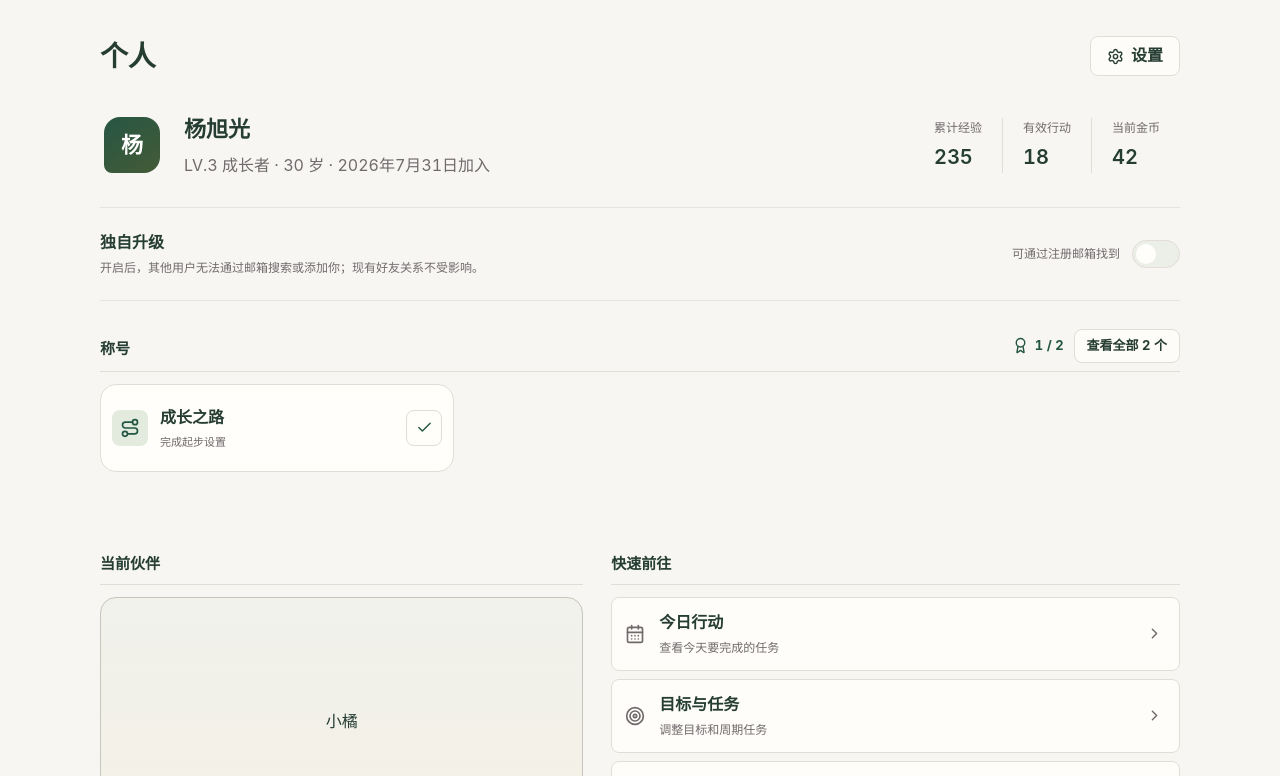
Test: Personal profile › shows identity, growth totals, selected pet and title inventory
The image size is (1280, 776).
What coordinates should you click on to do the following:
click the button with class "titles-toggle"
I would click on:
 (1127, 346)
Its box is [1074, 329, 1180, 363].
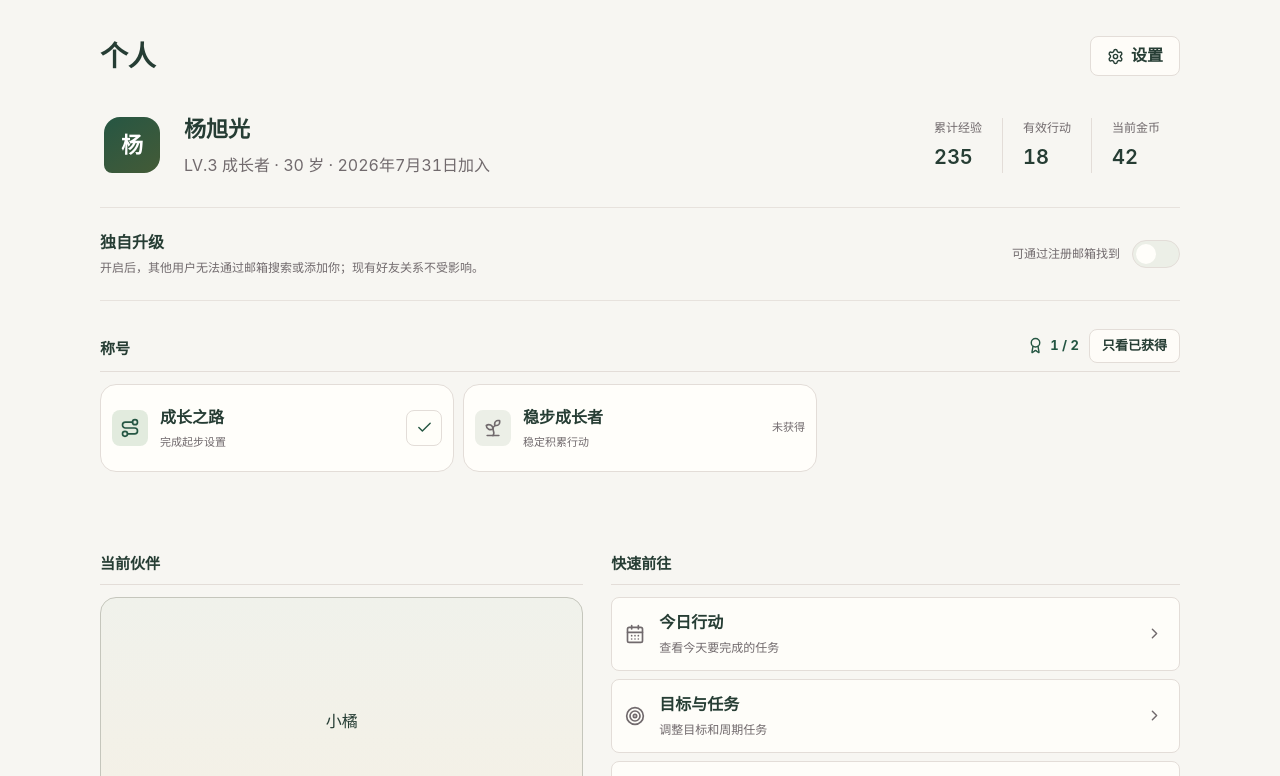
Expected: the text "未获得" is shown, [772, 419, 805, 436]
